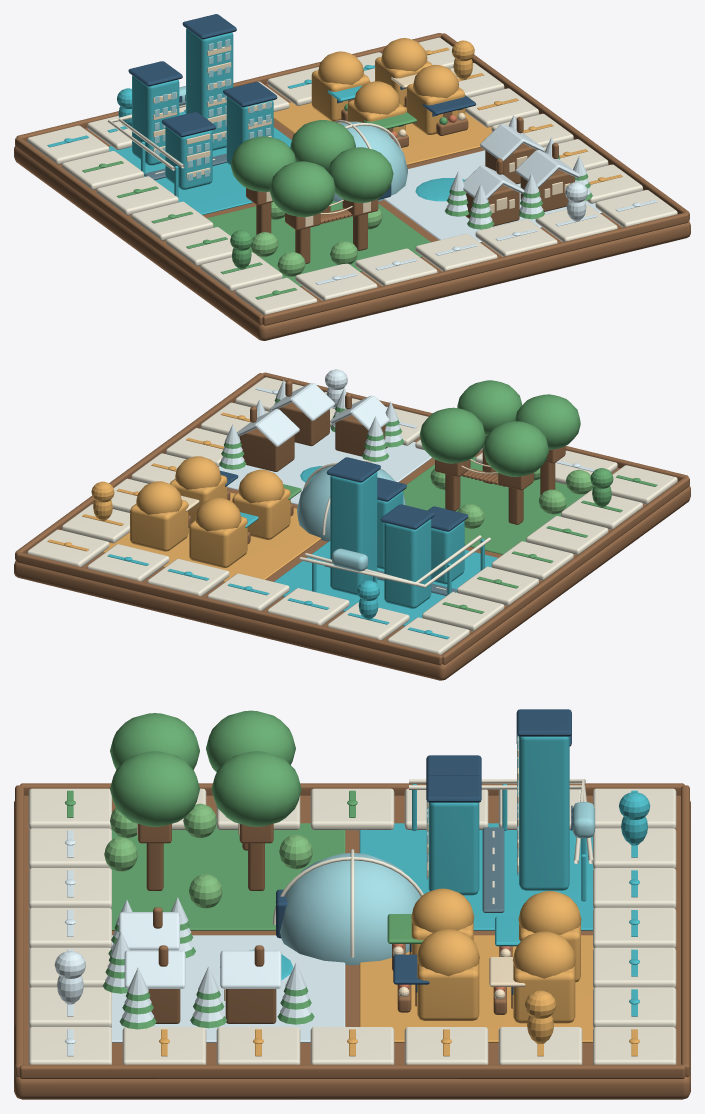
File: ak-animal-metropolis.glb
3 views of the same model, one above another, from view 1: azimuth 30°, elevation 25°; view 2: azimuth 150°, elevation 25°; view 3: azimuth 270°, elevation 25° (orthographic). The views are drawn at different scales.
Parts seen in each view (by area): view 1: Board_Base, District_4, WoodenRim.001, District_3, WoodenRim.003, District_2, CityTower_1, District_1, TreeCrown, TreeCrown.001, TreeCrown.002, CityTower_0 (+51 smaller); view 2: Board_Base, District_4, WoodenRim, CityTower_1, District_2, CityTower_0, District_3, WoodenRim.003, District_1, TreeCrown.002, TreeCrown.003, TreeCrown (+52 smaller); view 3: Board_Base, District_4, CentralTransitDome, WoodenRim.002, CityTower_1, District_3, District_2, District_1, TreeCrown.001, TreeCrown.003, CityTower_3, TreeCrown.002 (+63 smaller).
Boxes of the visible parts, box(x1,y1,x2,y2) form: Board_Base: box(14, 84, 690, 340); District_4: box(207, 201, 430, 286); WoodenRim.001: box(262, 212, 688, 325); District_3: box(384, 150, 602, 242); WoodenRim.003: box(15, 137, 263, 325); District_2: box(273, 102, 491, 165); CityTower_1: box(186, 28, 233, 150); District_1: box(109, 127, 291, 214); TreeCrown: box(270, 161, 335, 217); TreeCrown.001: box(328, 147, 393, 203); TreeCrown.002: box(231, 136, 296, 192); CityTower_0: box(132, 75, 179, 165); Board_Base: box(14, 402, 690, 680); District_4: box(403, 456, 593, 554); WoodenRim: box(16, 552, 442, 665); CityTower_1: box(330, 472, 377, 595); District_2: box(102, 492, 320, 582); CityTower_0: box(384, 519, 431, 608); District_3: box(218, 427, 431, 504); WoodenRim.003: box(442, 476, 689, 664); District_1: box(274, 541, 497, 626); TreeCrown.002: box(483, 421, 548, 476); TreeCrown.003: box(419, 407, 485, 463); TreeCrown: box(515, 394, 580, 449); Board_Base: box(14, 795, 690, 1099); District_4: box(111, 823, 345, 930); CentralTransitDome: box(280, 853, 420, 965); WoodenRim.002: box(19, 1064, 685, 1078); CityTower_1: box(519, 736, 569, 890); District_3: box(111, 935, 345, 1042); District_2: box(359, 935, 593, 1042); District_1: box(359, 823, 593, 930); TreeCrown.001: box(110, 751, 199, 826); TreeCrown.003: box(211, 751, 301, 826); CityTower_3: box(428, 802, 479, 895); TreeCrown.002: box(206, 710, 295, 772).
Size of the model in its own units: 12 by 4.31 by 12.
